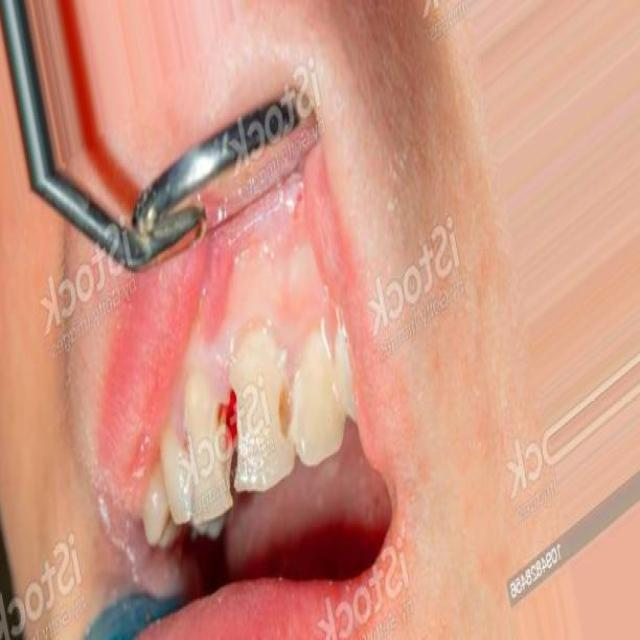caries: (268, 368, 315, 447), (210, 377, 251, 446)
